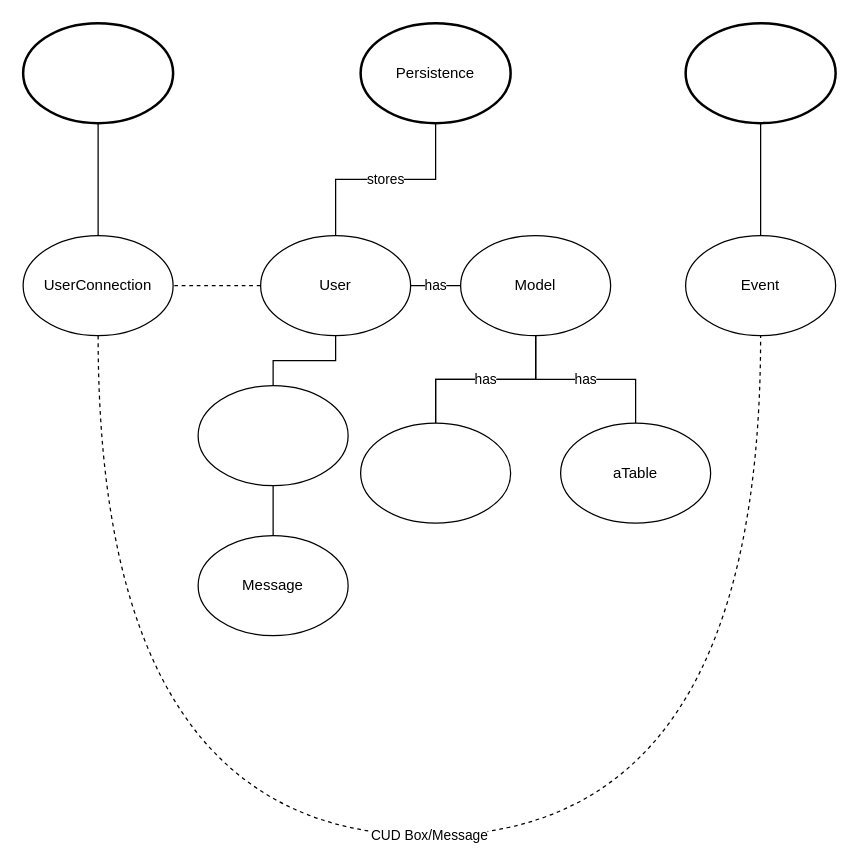
This 858x865 diagram has some shape labels left out. Each missing label, with the centre of its shape:
Box: pixel 272 435
Diff: pixel 435 472
Engine: pixel 97 72
IMAP: pixel 760 72
